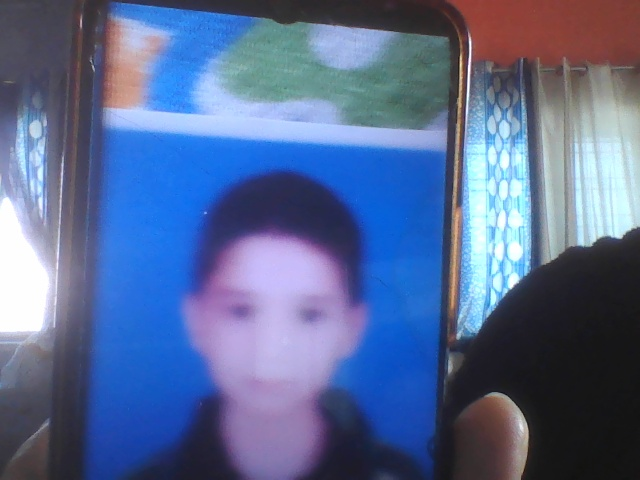fake: (185, 176, 372, 441)
